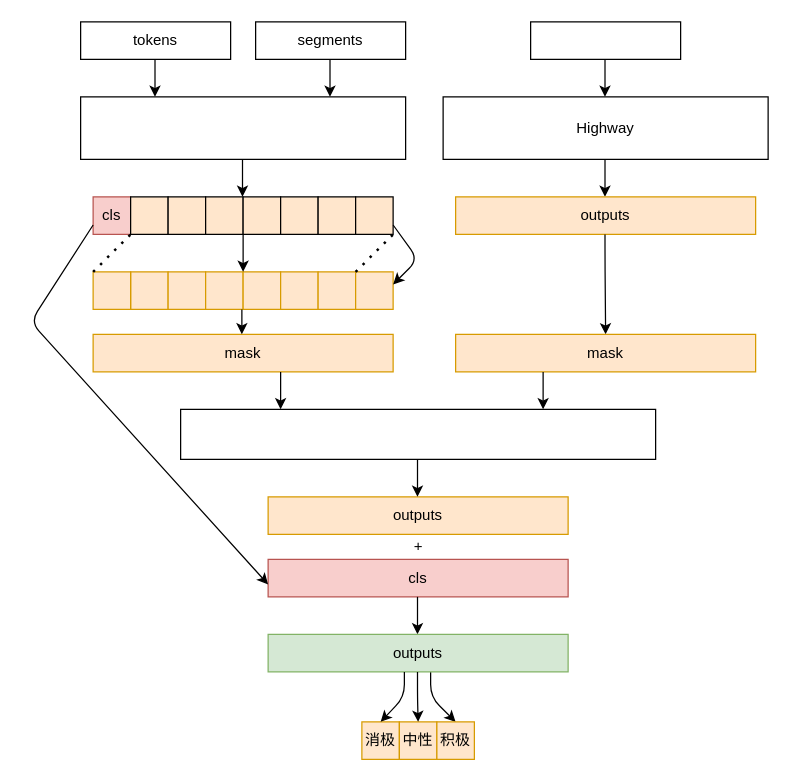
Some shapes in this 790 by 781 pixel diagram are drawn without their labels. The shapes that lost their labels are listed below. From the top down, each one's centre as x and y in pixels, then its label:
At point 605,40: "dep_tree_ids".
At point 242,127: "Bert".
At point 417,433: "R-GAT".
